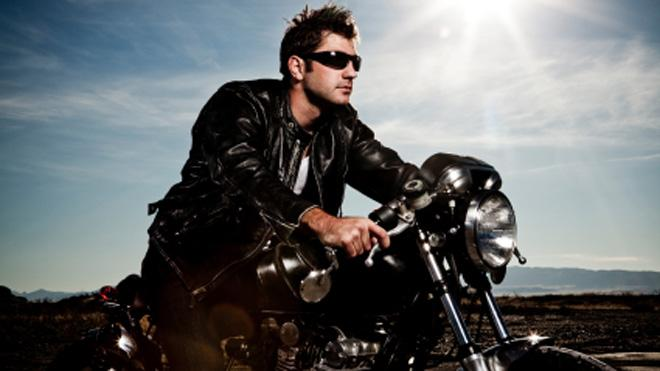nohelmet: (279, 7, 363, 112)
